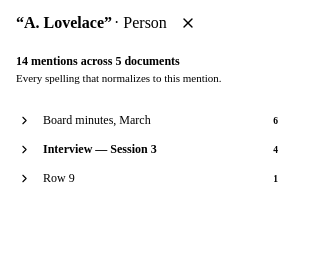
Test: MentionDetailPanel — Level 2 › collapsing hides the occurrences and issues no fetch
Step 1. Click the 1st button with test id "mention-detail-expand" → point(24, 121), box [16,110,33,131]
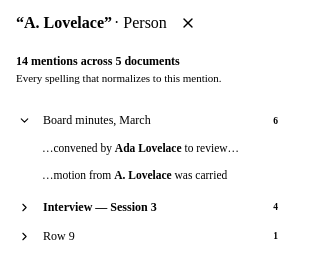
expect the list with test id "mention-occurrence-list" is shown: met, box [16,135,292,189]
expect the button with test id "mention-detail-expand" is expanded: met
Step 2. Click the 1st button with test id "mention-detail-expand" → point(24, 121), box [16,110,33,131]
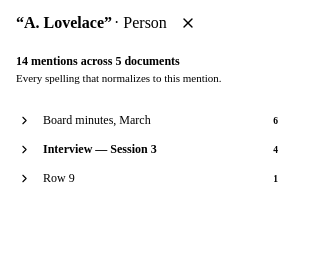
expect the list with test id "mention-occurrence-list" is gone: met
expect the button with test id "mention-detail-expand" is collapsed: met, box [16,110,33,131]
